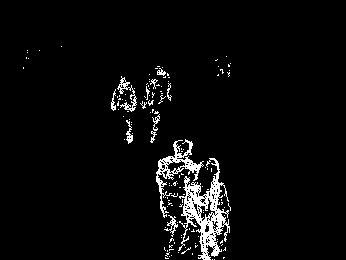person: (156, 138, 200, 260), (186, 159, 231, 260), (142, 65, 171, 147), (111, 74, 136, 145)
